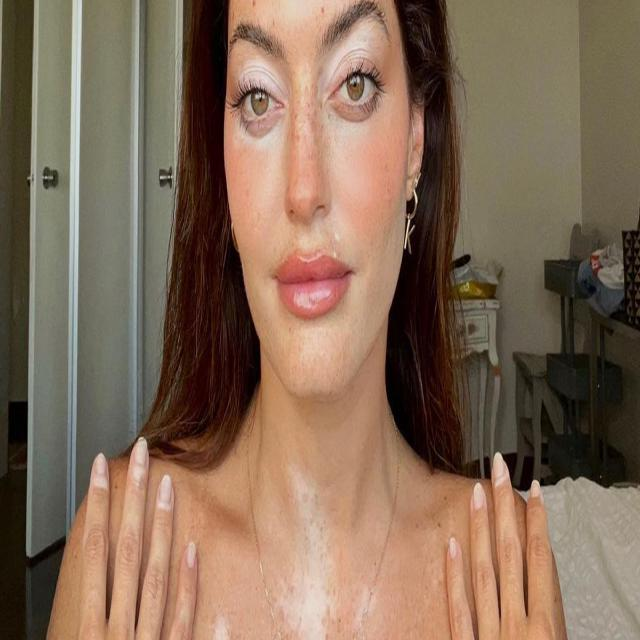vitiligo: (235, 36, 383, 167)
